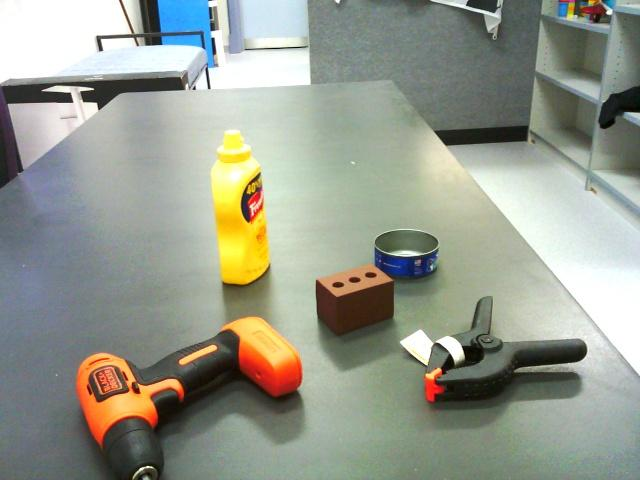006_mustard_bottle: (206, 122, 274, 289)
007_tuna_fish_can: (368, 224, 440, 280)
035_power_drill: (72, 313, 305, 480)
051_large_clamp: (417, 296, 587, 407)
061_foam_brick: (307, 265, 397, 339)
